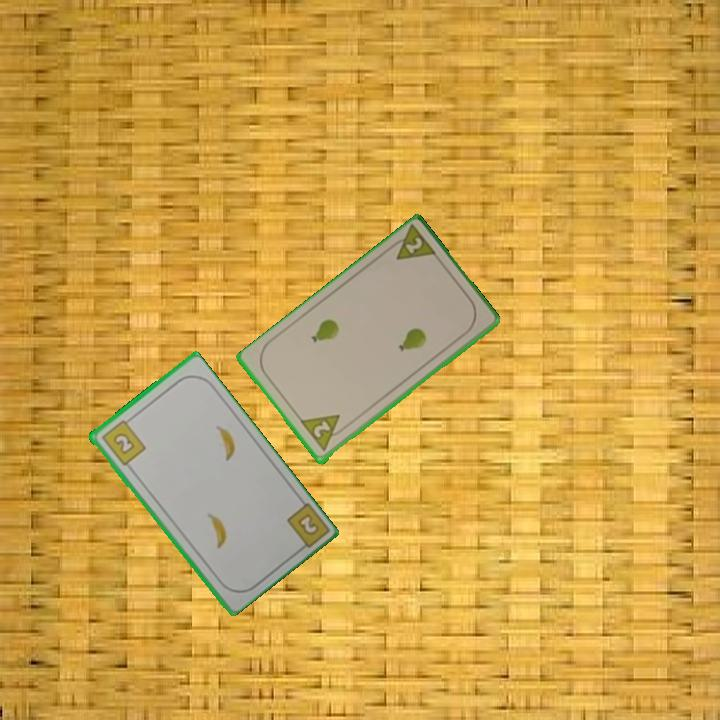2b: (98, 414, 148, 468), (294, 510, 322, 538)
2p: (384, 222, 440, 264), (298, 411, 351, 455)
